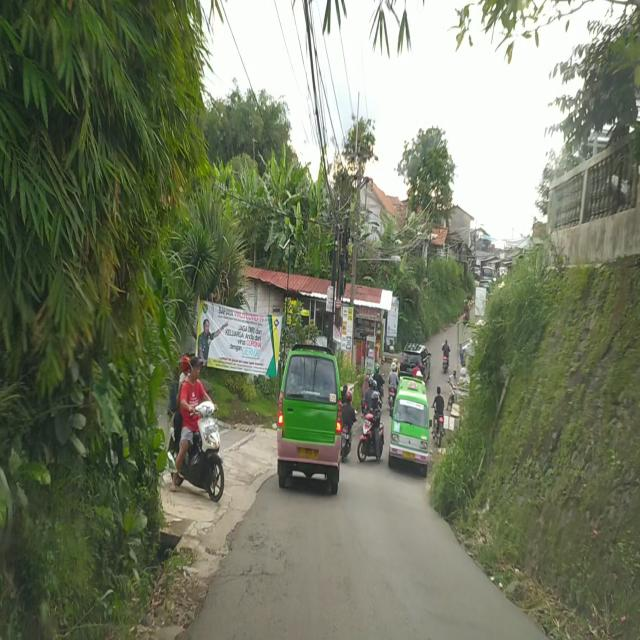Drain Hole: (234, 533, 295, 640)
